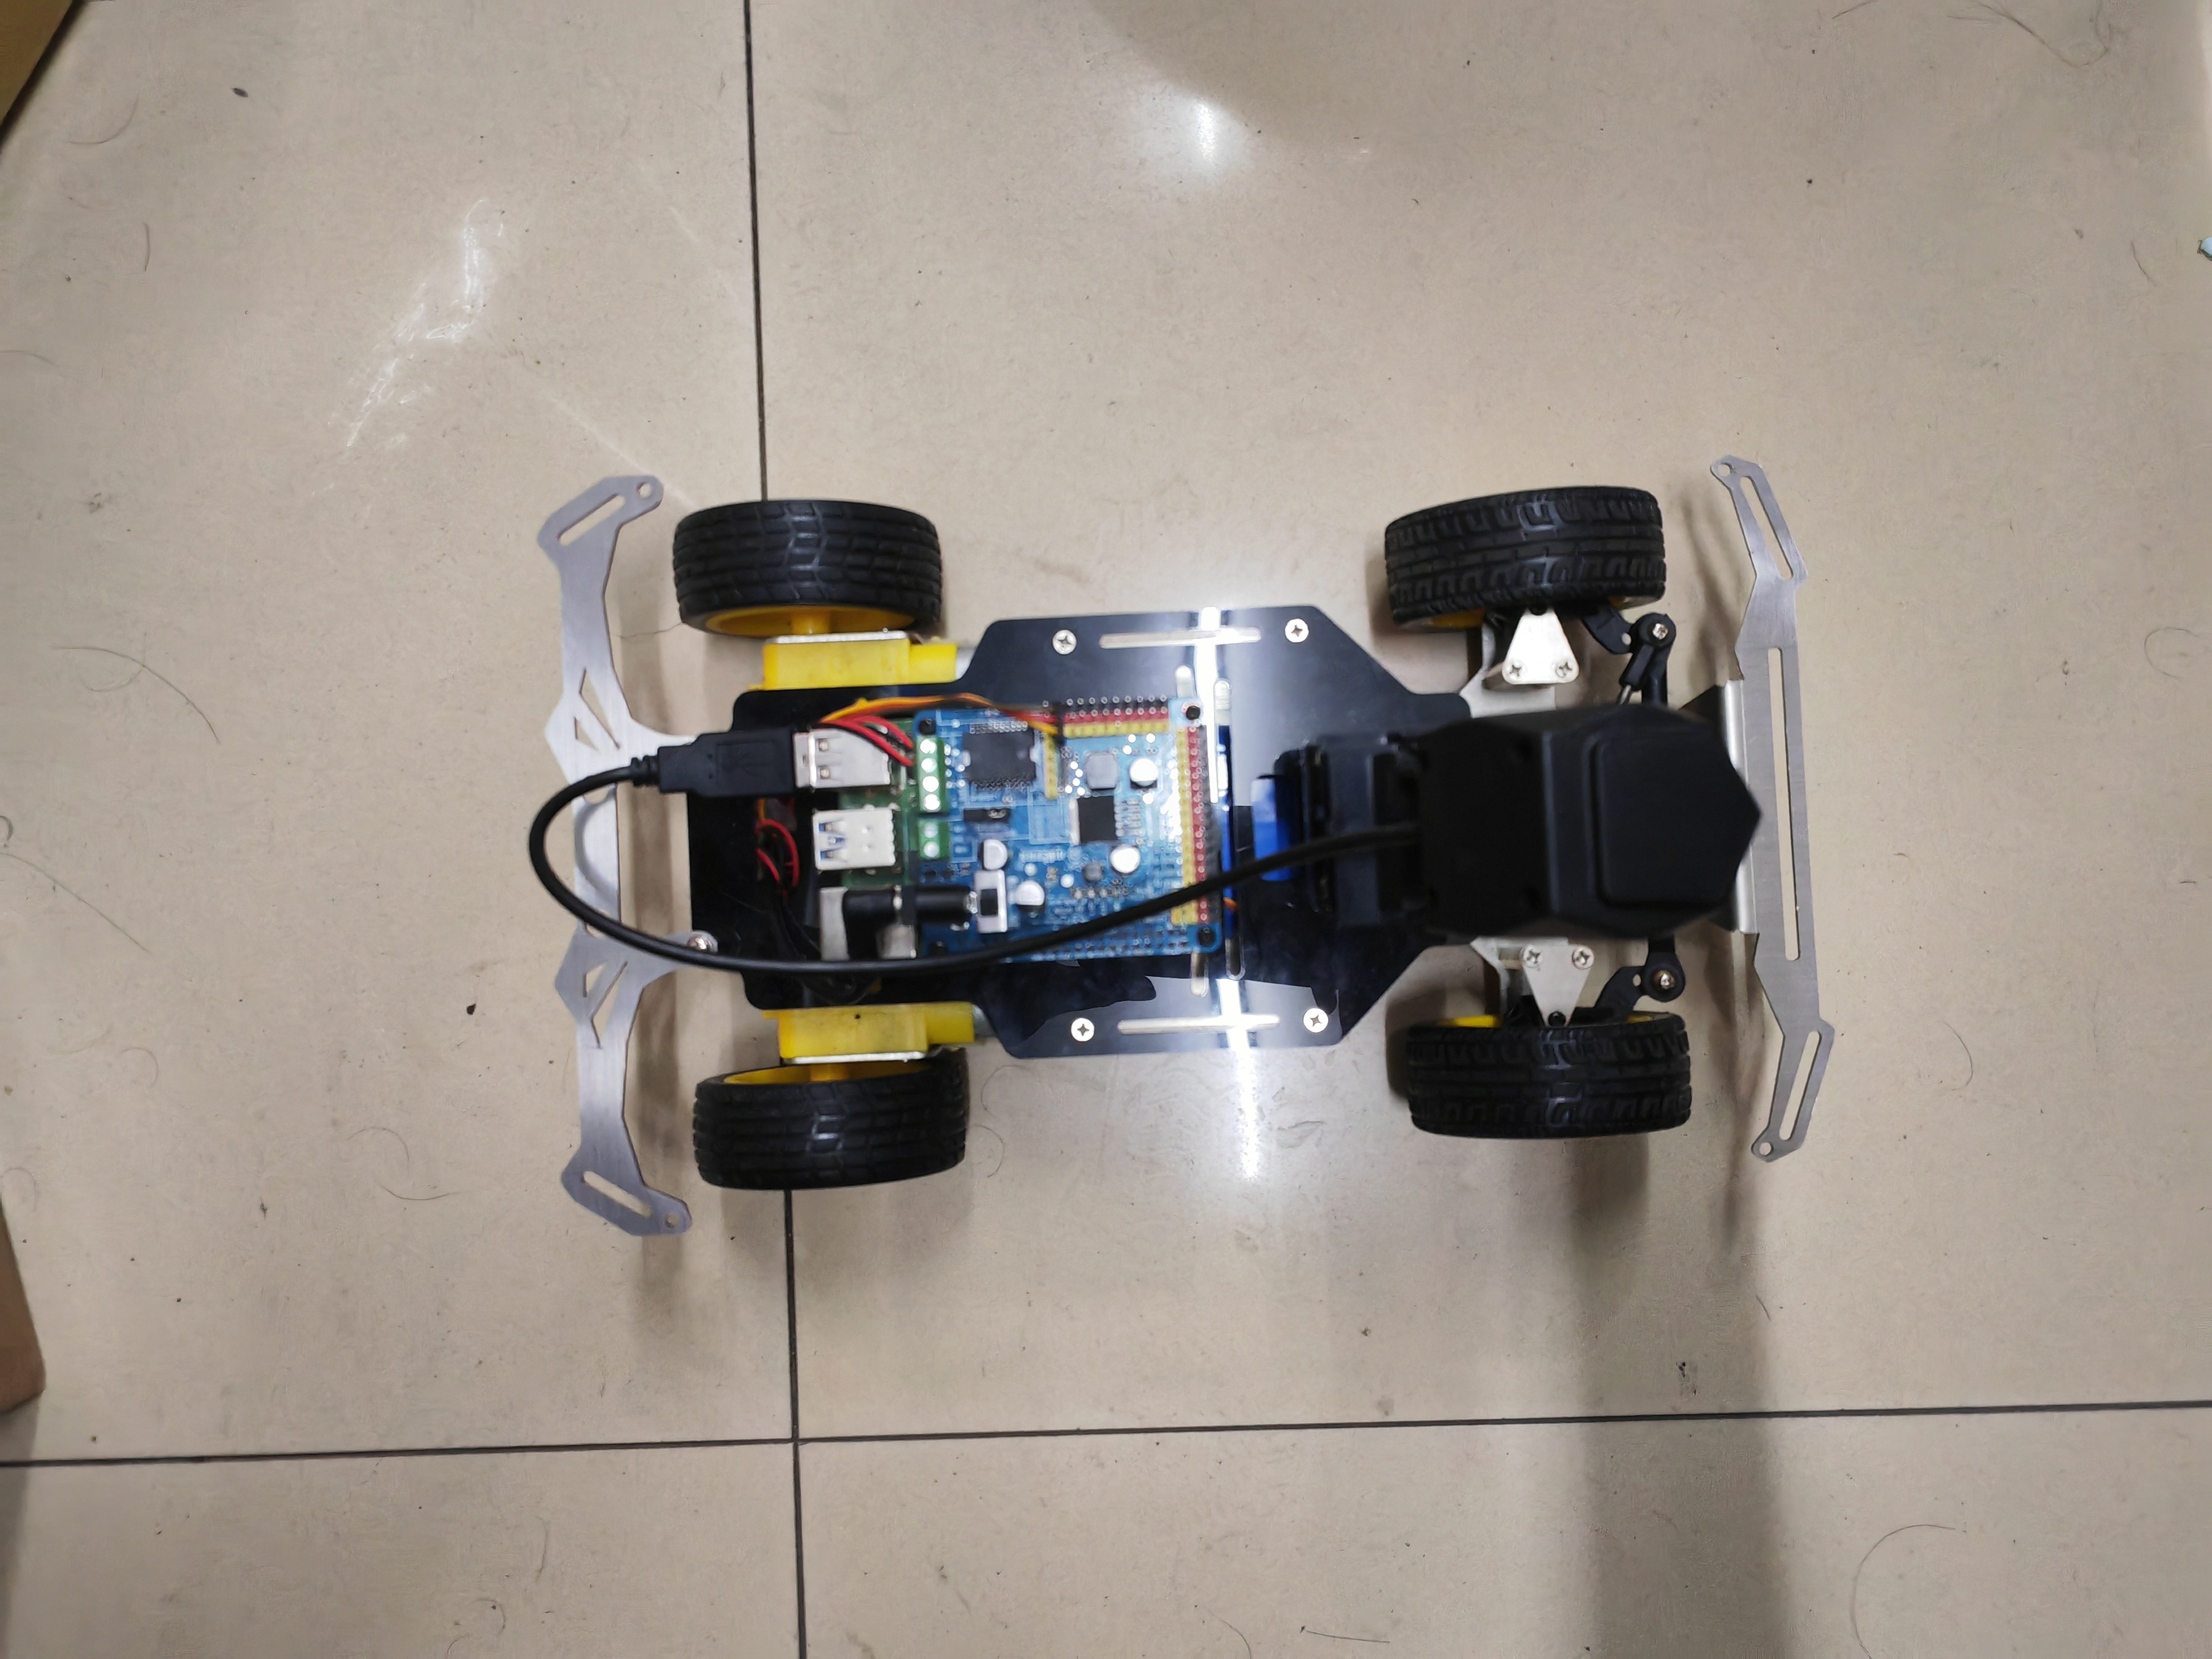car: (521, 448, 1851, 1248)
